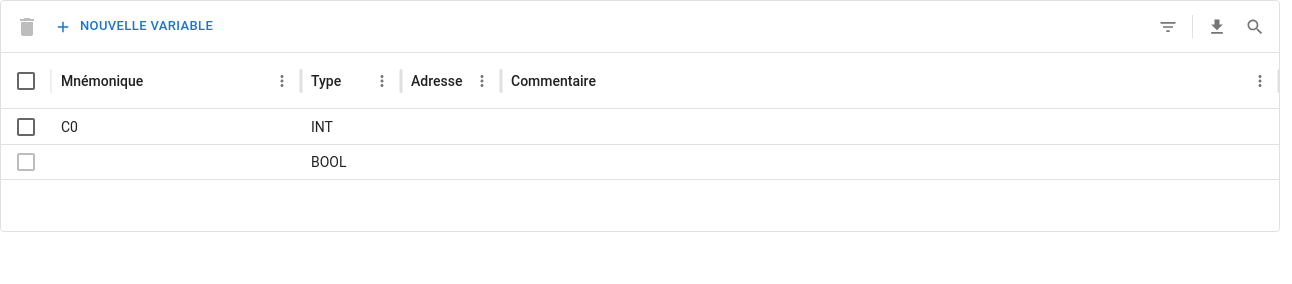
Test: VariablesTable › insertion d'une variable via le menu contextuel › reprend le type de la variable cliquée pour la ligne brouillon
This screenshot has width=1292, height=284.
Right-click the text "C0" at (70, 127), box left=61, top=119, right=78, bottom=135
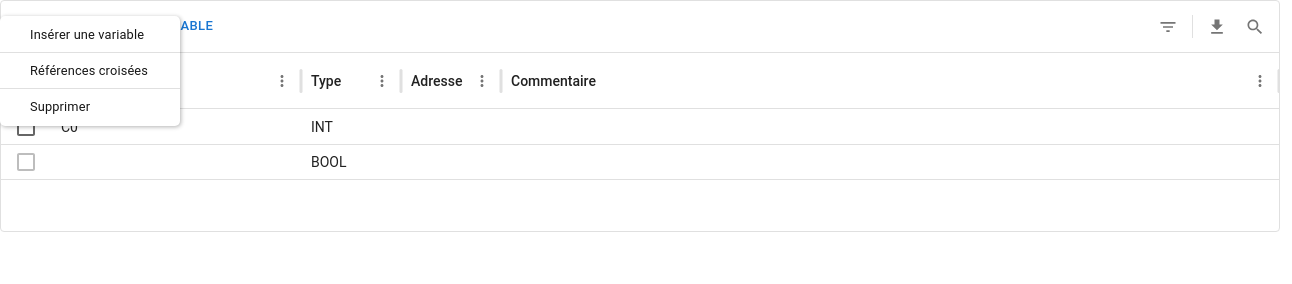
Click the menu item "Insérer une variable" at (87, 34), box left=30, top=27, right=144, bottom=42
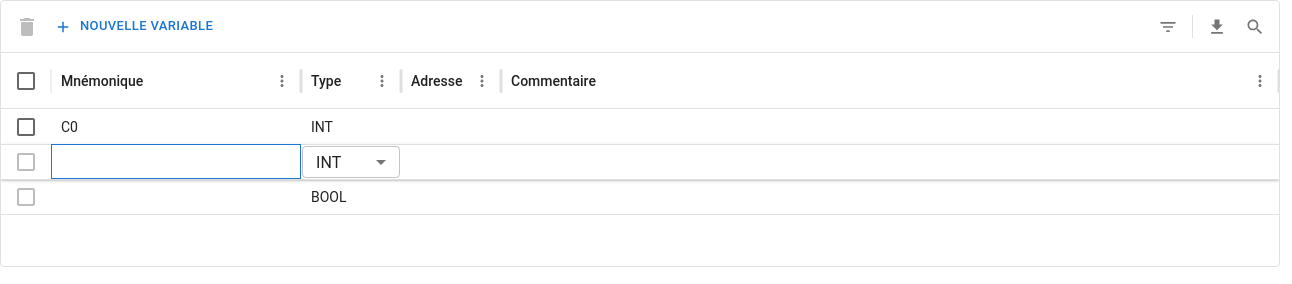
Expected: the row "INT" is shown, left=1, top=144, right=1279, bottom=179
